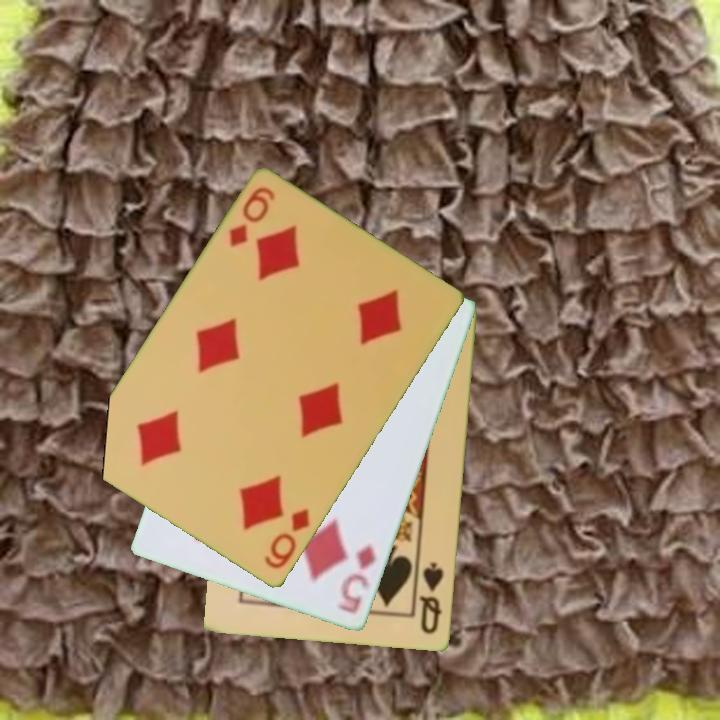5d: (334, 540, 380, 617)
6d: (260, 505, 313, 573), (225, 183, 278, 251)
Qs: (416, 559, 447, 637)
